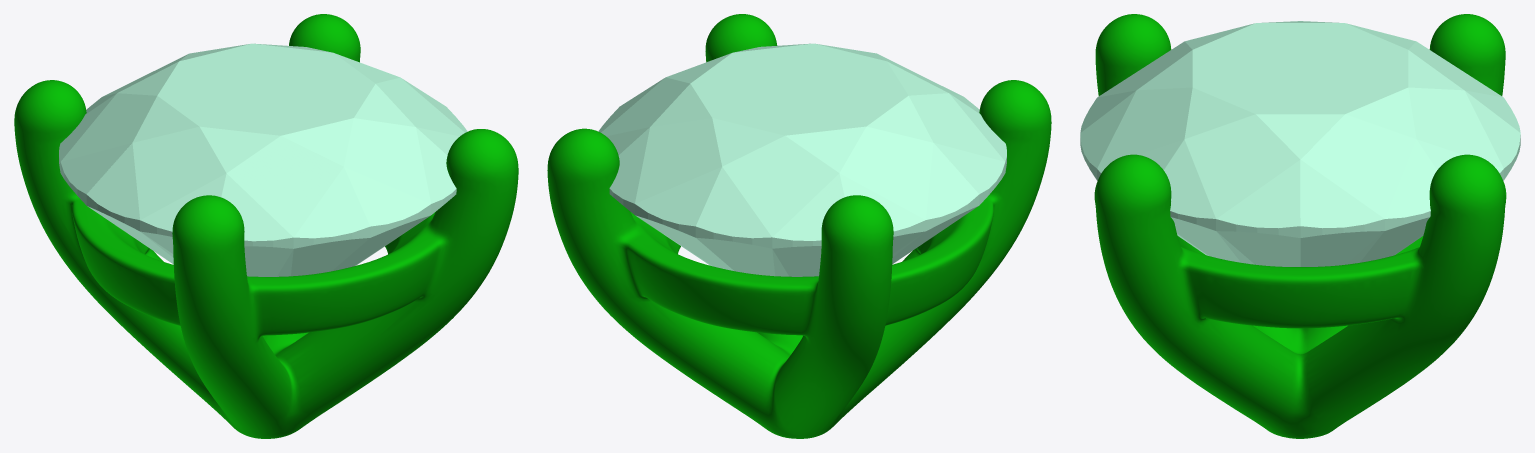
3 renders of one model, left to right at view 1: azimuth 30°, elevation 25°; view 2: azimuth 150°, elevation 25°; view 3: azimuth 270°, elevation 25°, orthographic. The views are drawn at different scales.
Visible parts, largest first — view 1: Metal01, CS_Diamond; view 2: Metal01, CS_Diamond; view 3: CS_Diamond, Metal01.
Boxes of the visible parts, x1,y1,x2,y2 form: Metal01: [14, 14, 518, 438]; CS_Diamond: [59, 43, 467, 276]; Metal01: [547, 14, 1051, 438]; CS_Diamond: [598, 43, 1006, 276]; CS_Diamond: [1080, 21, 1520, 266]; Metal01: [1094, 14, 1506, 438].
Bounding box in the file's own units: 6.6 × 5.92 × 6.6.
